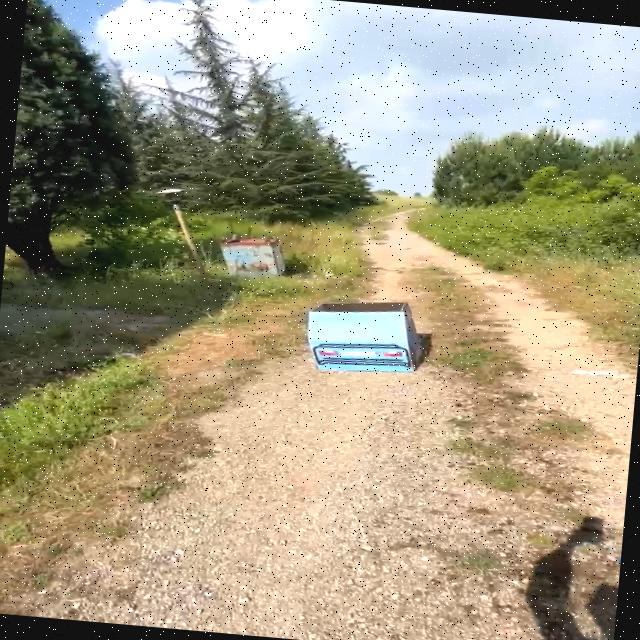blue_car: (286, 290, 436, 384)
